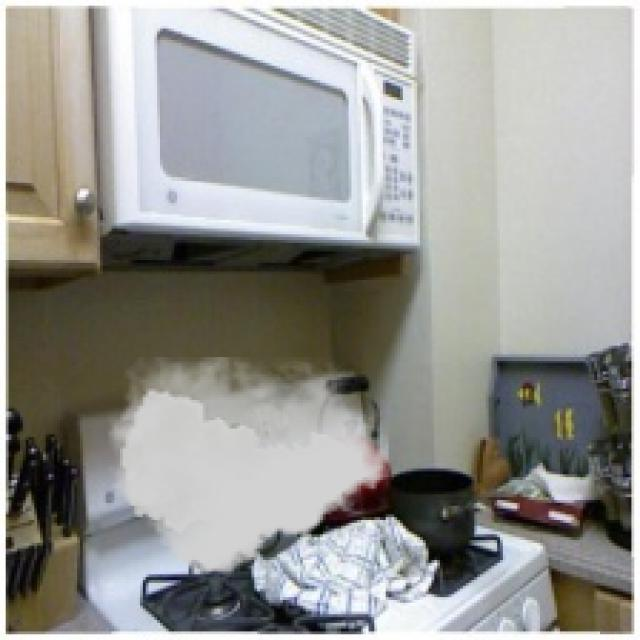smoke: (109, 357, 388, 574)
